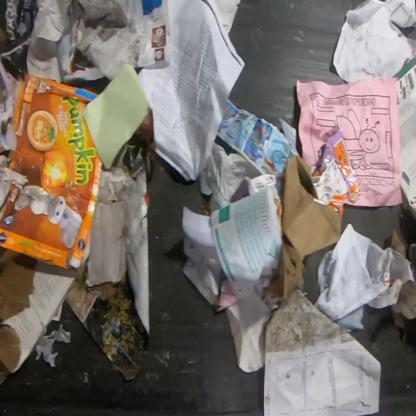cardboard: (0, 71, 103, 271), (0, 245, 78, 387), (281, 154, 342, 257), (311, 128, 363, 214), (84, 199, 127, 302), (0, 0, 39, 58), (390, 306, 413, 346), (388, 228, 407, 258)
soft_plastic: (34, 323, 72, 368)
